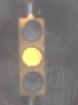Yellow: (15, 8, 45, 105)
